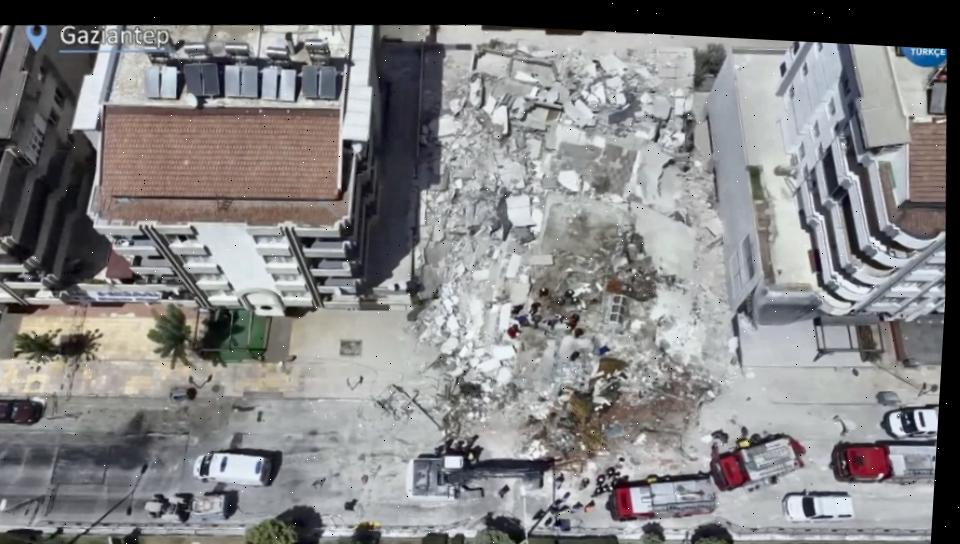kapali: (412, 400, 782, 540)
